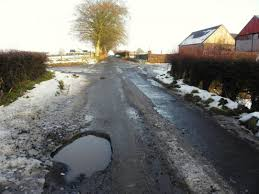pothole: (32, 125, 121, 188)
